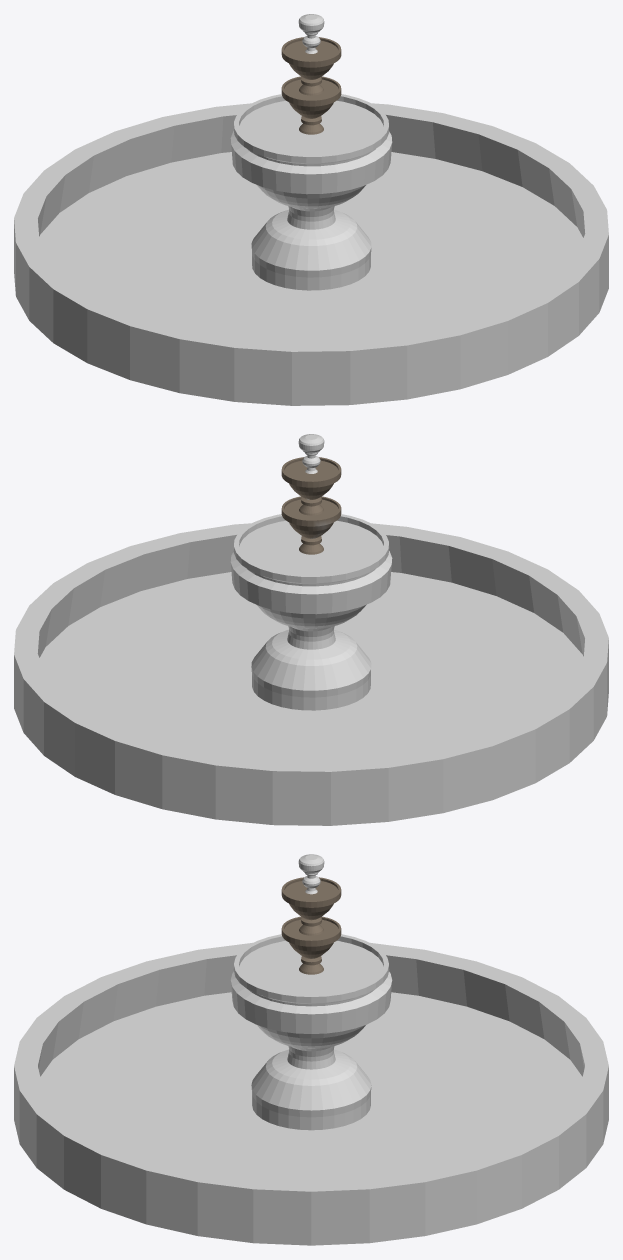
File: Fonte.fbx
3 renders of one model, top to bottom at view 1: azimuth 30°, elevation 25°; view 2: azimuth 150°, elevation 25°; view 3: azimuth 270°, elevation 25°, orthographic.
Parts seen in each view (by area): view 1: Base, Primeiro Nivel, Terceiro Nivel, Segundo Nivel, Topo; view 2: Base, Primeiro Nivel, Terceiro Nivel, Segundo Nivel, Topo; view 3: Base, Primeiro Nivel, Terceiro Nivel, Segundo Nivel, Topo.
Boxes of the visible parts, x1,y1,x2,y2 form: Base: [14, 103, 608, 405]; Primeiro Nivel: [230, 94, 392, 290]; Terceiro Nivel: [281, 37, 341, 95]; Segundo Nivel: [281, 76, 341, 134]; Topo: [298, 14, 324, 53]; Base: [14, 523, 608, 825]; Primeiro Nivel: [230, 514, 392, 710]; Terceiro Nivel: [281, 457, 341, 515]; Segundo Nivel: [281, 496, 341, 554]; Topo: [298, 434, 324, 473]; Base: [14, 942, 608, 1245]; Primeiro Nivel: [230, 934, 392, 1130]; Terceiro Nivel: [281, 877, 341, 935]; Segundo Nivel: [281, 916, 341, 974]; Topo: [298, 854, 324, 894].
Size of the model in its own units: 500 by 243 by 500.
